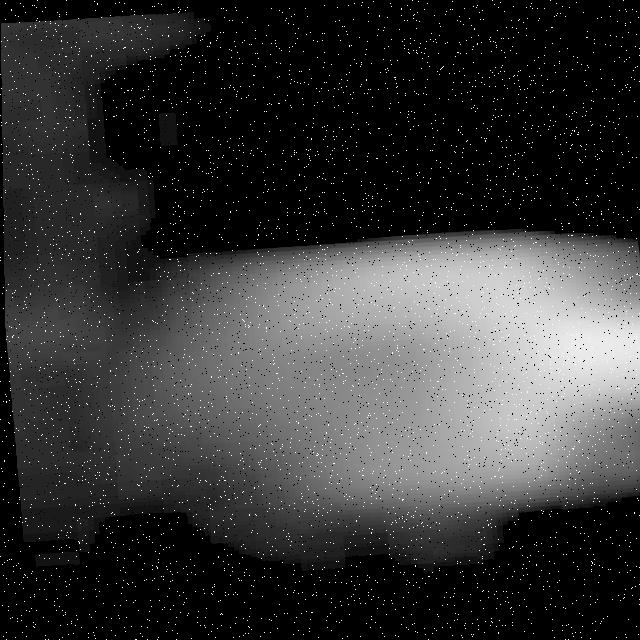person: (138, 179, 640, 540)
